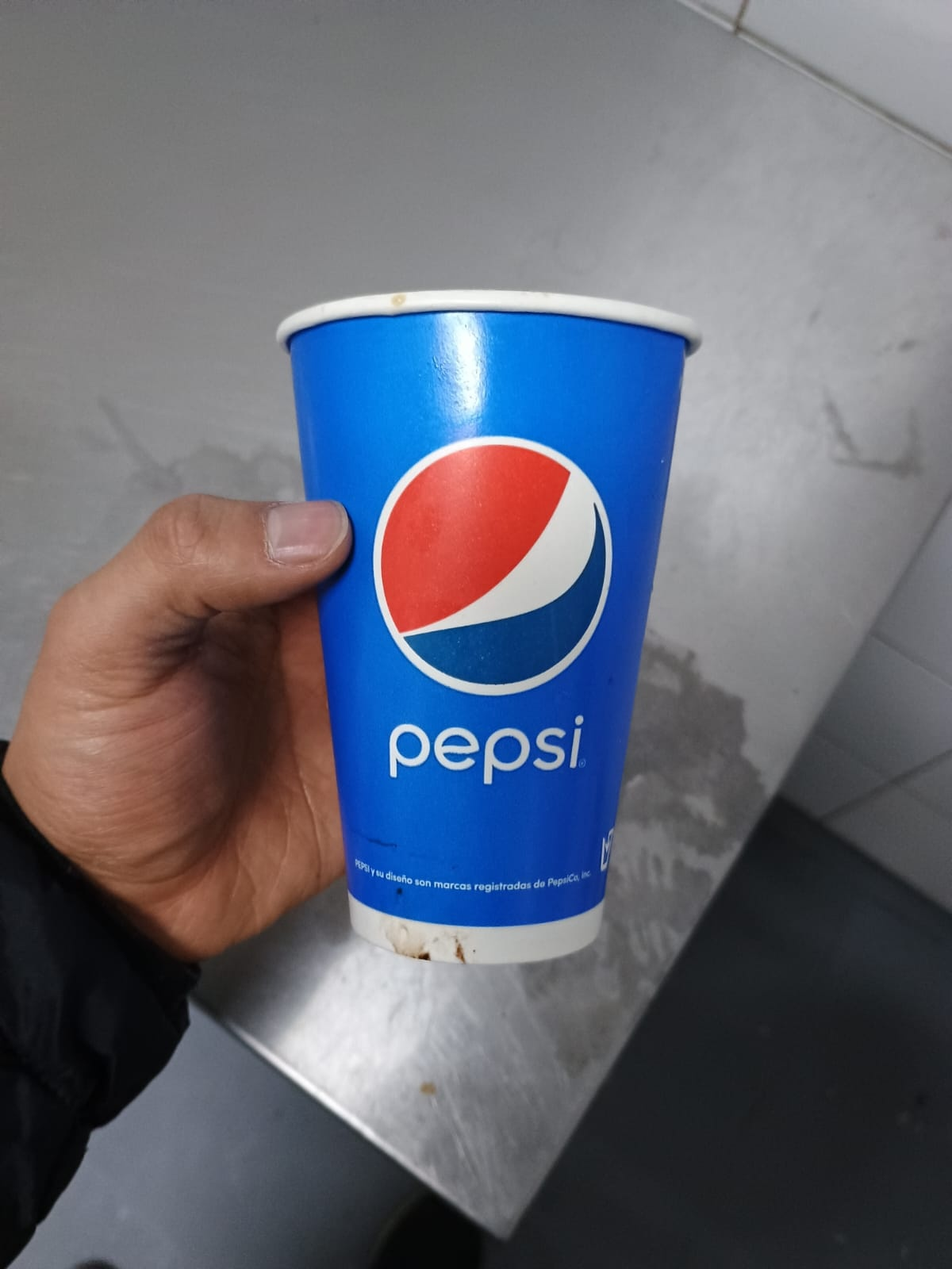Carton: (278, 288, 701, 965)
